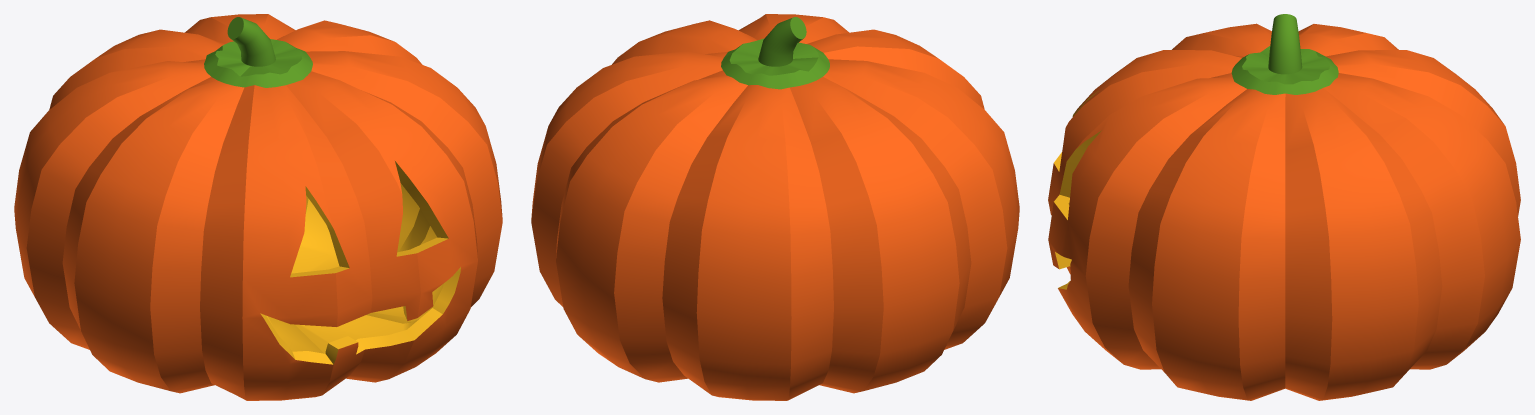
Rendered from jack_o_lantern.gltf.
3 renders of one model, left to right at view 1: azimuth 30°, elevation 25°; view 2: azimuth 150°, elevation 25°; view 3: azimuth 270°, elevation 25°, orthographic.
Parts seen in each view (by area): view 1: Circle.1781; view 2: Circle.1781; view 3: Circle.1781.
Boxes of the visible parts, <box> form: Circle.1781: <box>14,14,502,400</box>; Circle.1781: <box>531,14,1019,400</box>; Circle.1781: <box>1048,14,1520,400</box>.
Size of the model in its own units: 2.31 by 1.68 by 2.32.
Materials: 3 (3 with a texture image).
